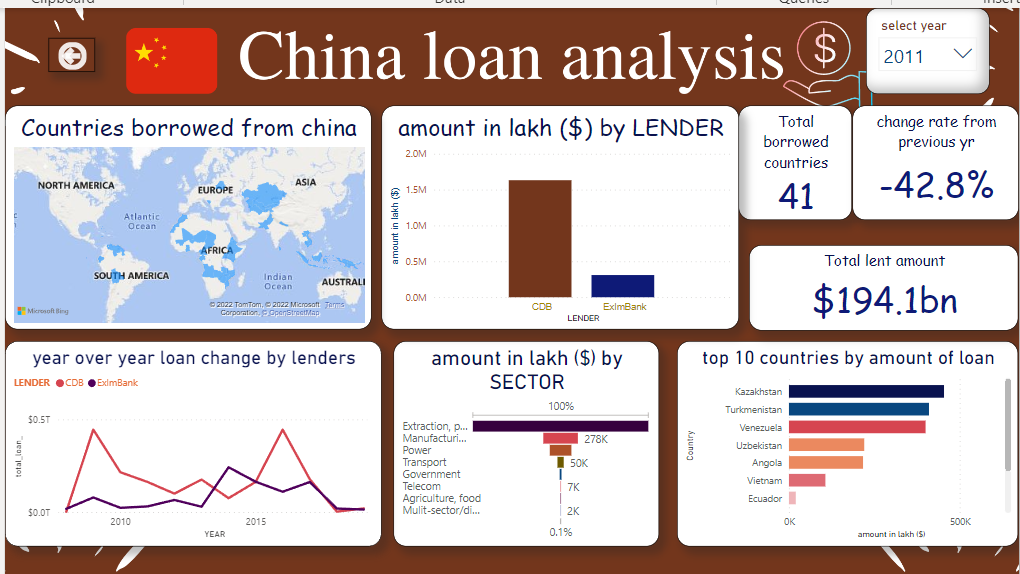

Layout of this report page (visuals, bound fields, positions):
{"tool":"powerbi","page":{"name":"overall analysis","canvas":[1280,720],"ordinal":0},"visuals":[{"type":"barChart","title":"top 10 countries by amount of loan","fields":{"Category":["china_loan_transformed.Country"],"Y":["Sum(china_loan_transformed.amount in lakh ($))"]},"box":[848.7,421.2,430.7,259.1],"z":0},{"type":"card","title":"Total borrowed countries","fields":{"Values":["Count(china_loan_transformed.Country)"]},"box":[926.6,124,143,144.6],"z":1000},{"type":"card","title":"Total lent amount","fields":{"Values":["Calculated_fields.total_loan_"]},"box":[939.3,298.8,340.1,108.1],"z":2000},{"type":"funnel","fields":{"Category":["china_loan_transformed.SECTOR"],"Y":["Sum(china_loan_transformed.amount in lakh ($))"]},"box":[491.1,421.2,335.4,259.1],"z":3000},{"type":"columnChart","fields":{"Category":["china_loan_transformed.LENDER"],"Y":["Sum(china_loan_transformed.amount in lakh ($))"]},"box":[475.2,124,451.4,282.9],"z":4000},{"type":"filledMap","title":"Countries borrowed from china","fields":{"Category":["china_loan_transformed.Country"]},"box":[0,124,462.5,282.9],"z":5000},{"type":"slicer","fields":{"Values":["china_loan_transformed.YEAR.Variation.Date Hierarchy.Year"]},"box":[1086.4,0,156,108.8],"z":6000},{"type":"lineChart","title":"year over year loan change by lenders","fields":{"Category":["china_loan_transformed.YEAR.Variation.Date Hierarchy.Year"],"Series":["china_loan_transformed.LENDER"],"Y":["Calculated_fields.total_loan_"]},"box":[0,421.2,475.2,259.1],"z":7000},{"type":"card","title":"change rate from previous yr","fields":{"Values":["Calculated_fields.YOY loan change%"]},"box":[1069.7,124,209.8,144.6],"z":8000},{"type":"actionButton","box":[55.8,38.6,58.7,42.9],"z":9000}]}

Visuals, with their boxes in screenshot pixels (x1, y1, x2, y2):
"top 10 countries by amount of loan" barChart: 672/339/1011/543
"Total borrowed countries" card: 733/105/846/219
"Total lent amount" card: 743/243/1011/328
funnel - china_loan_transformed.SECTOR x Sum(china_loan_transformed.amount in lakh ($)): 391/339/655/543
columnChart - china_loan_transformed.LENDER x Sum(china_loan_transformed.amount in lakh ($)): 379/105/733/328
"Countries borrowed from china" filledMap: 5/105/369/328
slicer - china_loan_transformed.YEAR.Variation.Date Hierarchy.Year: 859/8/982/93
"year over year loan change by lenders" lineChart: 5/339/379/543
"change rate from previous yr" card: 846/105/1011/219
actionButton: 49/38/95/72
